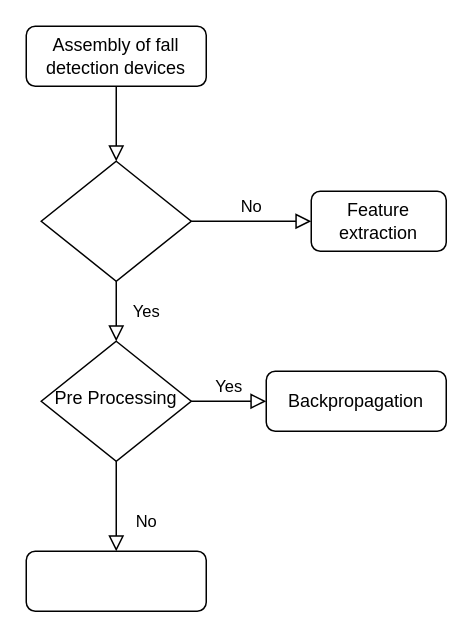
Some shapes in this 473 by 638 pixel diagram are drawn without their labels. The shapes that lost their labels are listed below. From the top down, each one's centre as x and y in pixels, then its label:
At pixel 115 220: "Data acquisition".
At pixel 115 580: "Fall Detection and Activity Daily Living".
